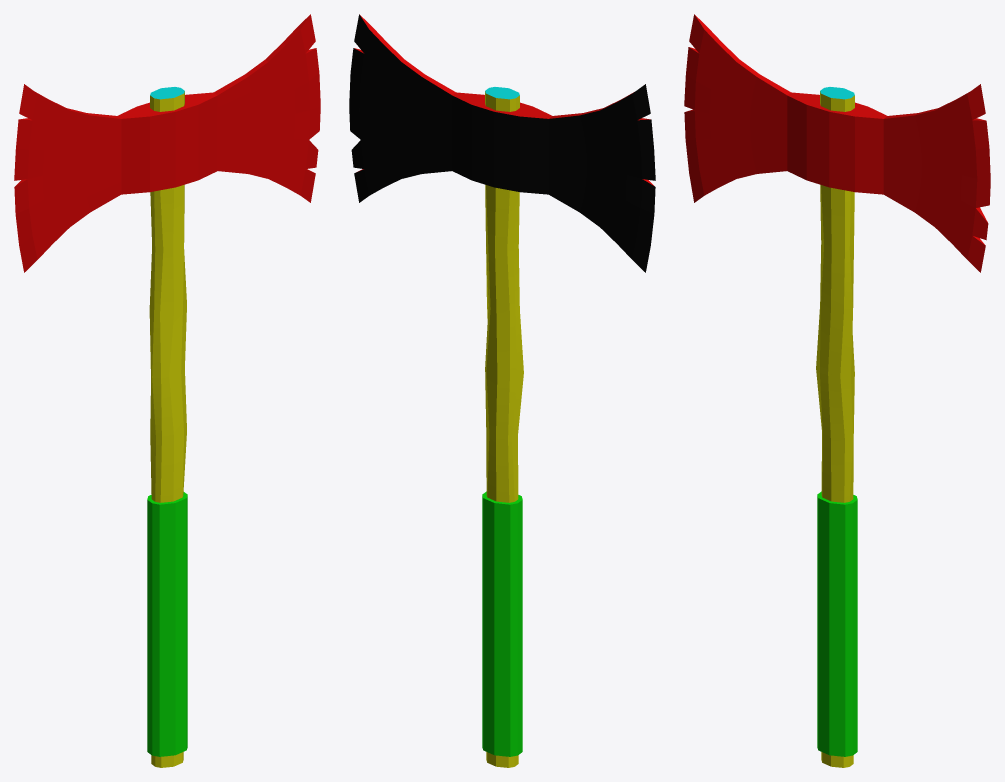
The model's file is Abbie - Axe.fbx.
3 renders of one model, left to right at view 1: azimuth 30°, elevation 25°; view 2: azimuth 150°, elevation 25°; view 3: azimuth 330°, elevation 25°, orthographic.
Visible parts, largest first — view 1: axeScaled; view 2: axeScaled; view 3: axeScaled.
Part boxes in pixels (x1=…): axeScaled: x1=14, y1=14, x2=320, y2=767; axeScaled: x1=349, y1=14, x2=655, y2=767; axeScaled: x1=684, y1=14, x2=990, y2=767.
Bounding box in the file's own units: 0.3816 × 0.8479 × 0.0357.
